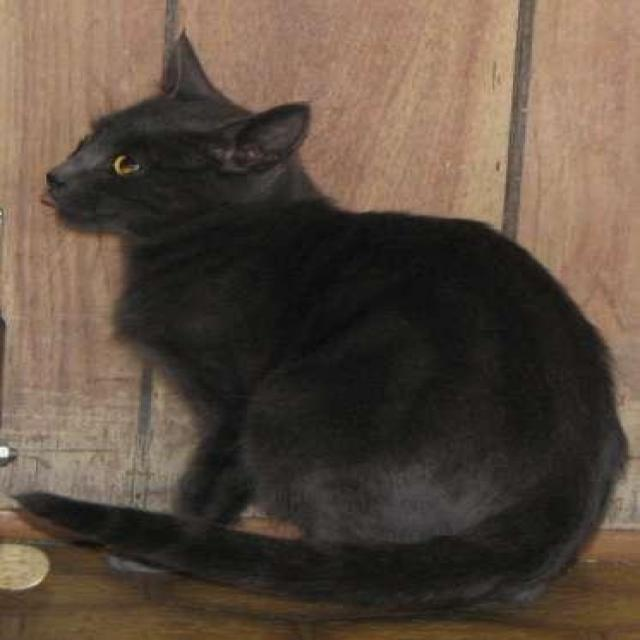cat: (14, 24, 637, 610)
